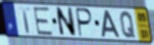A: (101, 9, 121, 39)
E: (32, 7, 55, 37)
N: (54, 6, 77, 38)
P: (76, 7, 94, 39)
Q: (119, 11, 137, 40)
T: (17, 7, 31, 35)
